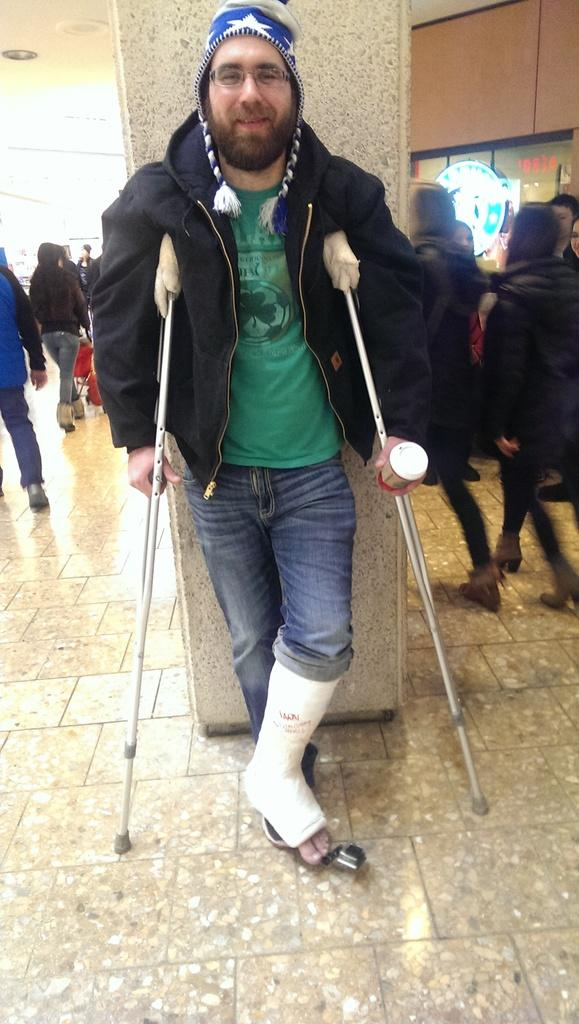crutches: (78, 0, 499, 893)
